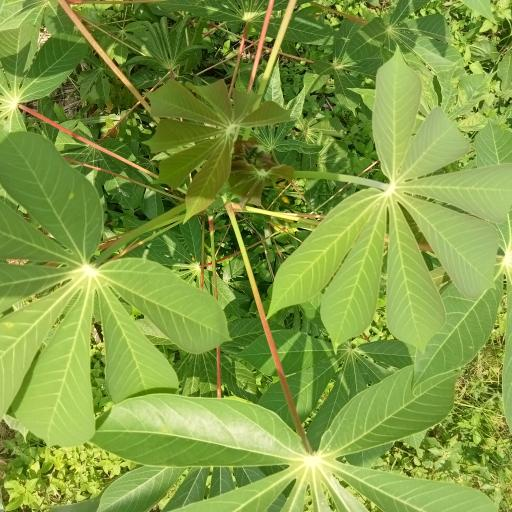Cassava_Healthy: (281, 64, 512, 356), (0, 140, 229, 426)
